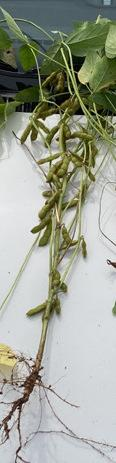soja: (35, 150, 67, 166), (18, 117, 36, 144), (44, 161, 64, 183), (38, 224, 56, 248), (27, 299, 48, 319), (31, 219, 55, 235), (62, 235, 88, 248), (60, 228, 79, 245), (73, 130, 93, 146), (42, 68, 58, 88), (46, 126, 61, 147), (58, 199, 86, 210), (36, 202, 55, 218), (52, 299, 72, 314), (70, 103, 87, 120), (57, 97, 75, 112), (55, 76, 70, 93), (83, 167, 97, 185), (78, 240, 93, 256), (31, 126, 43, 146), (41, 107, 58, 120), (72, 155, 84, 171), (91, 142, 100, 163), (42, 186, 56, 199), (54, 175, 66, 190), (53, 270, 62, 288), (64, 124, 72, 140), (60, 282, 70, 294)
